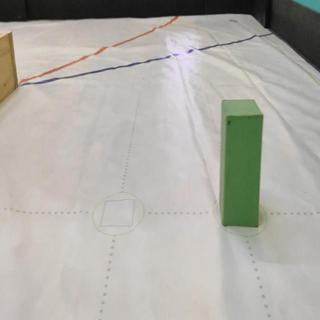greenbox: (220, 99, 265, 226)
